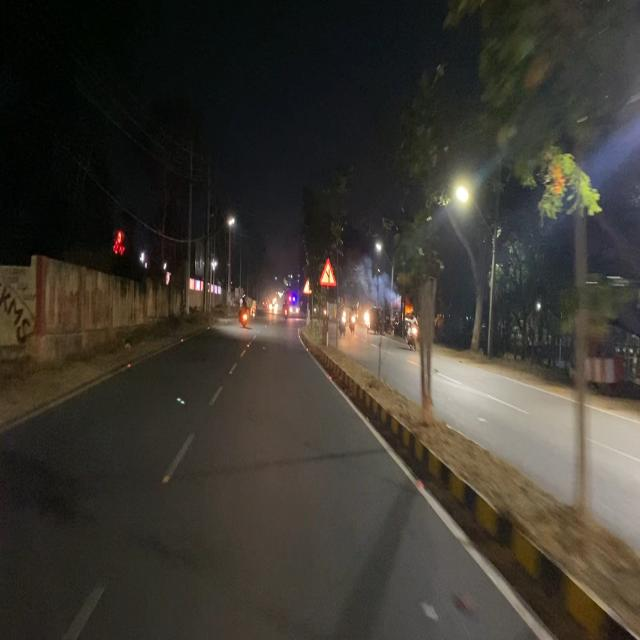bien_cam: (319, 256, 337, 288)
